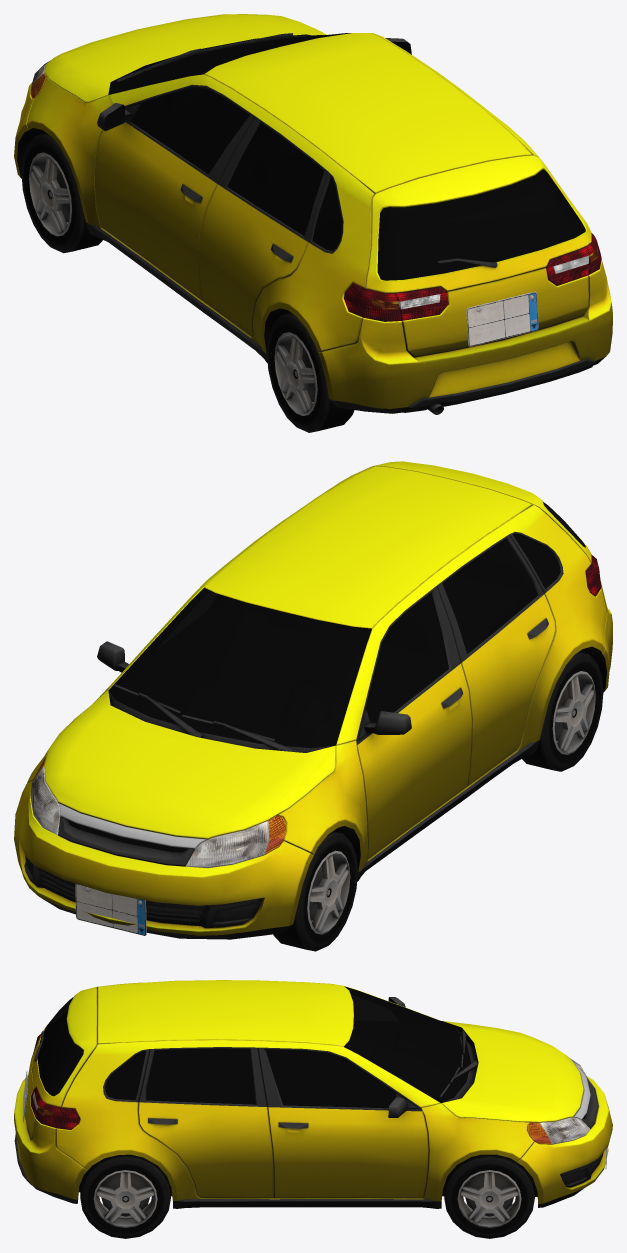
File: hatchback.glb
3 views of the same model, one above another, from view 1: azimuth 30°, elevation 25°; view 2: azimuth 150°, elevation 25°; view 3: azimuth 270°, elevation 25° (orthographic). The views are drawn at different scales.
Parts seen in each view (by area): view 1: Hatchback Body_Body_0, Hatchback Body_Glass_0, Tire_RL_0, Tire_FL_0, Hatchback Body_Optics_0, LicensePlate_Rear; view 2: Hatchback Body_Body_0, Hatchback Body_Glass_0, Tire_FL_0, Tire_RL_0, Hatchback Body_Optics_0, LicensePlate_Front; view 3: Hatchback Body_Body_0, Hatchback Body_Glass_0, Tire_FR_0, Tire_RR_0, Hatchback Body_Optics_0.
Boxes of the visible parts, x1,y1,x2,y2 form: Hatchback Body_Body_0: [14, 14, 612, 414]; Hatchback Body_Glass_0: [109, 33, 585, 280]; Tire_RL_0: [267, 313, 354, 432]; Tire_FL_0: [21, 133, 102, 253]; Hatchback Body_Optics_0: [30, 60, 601, 321]; LicensePlate_Rear: [466, 291, 538, 346]; Hatchback Body_Body_0: [14, 461, 612, 939]; Hatchback Body_Glass_0: [109, 502, 585, 748]; Tire_FL_0: [273, 831, 357, 951]; Tire_RL_0: [522, 652, 603, 771]; Hatchback Body_Optics_0: [30, 555, 601, 868]; LicensePlate_Front: [75, 883, 146, 935]; Hatchback Body_Body_0: [14, 980, 612, 1208]; Hatchback Body_Glass_0: [37, 986, 470, 1108]; Tire_FR_0: [444, 1154, 534, 1238]; Tire_RR_0: [80, 1154, 170, 1238]; Hatchback Body_Optics_0: [31, 1034, 590, 1144].
Bounding box in the file's own units: 1.74 × 1.35 × 3.96.
Materials: 6 (4 with a texture image).
